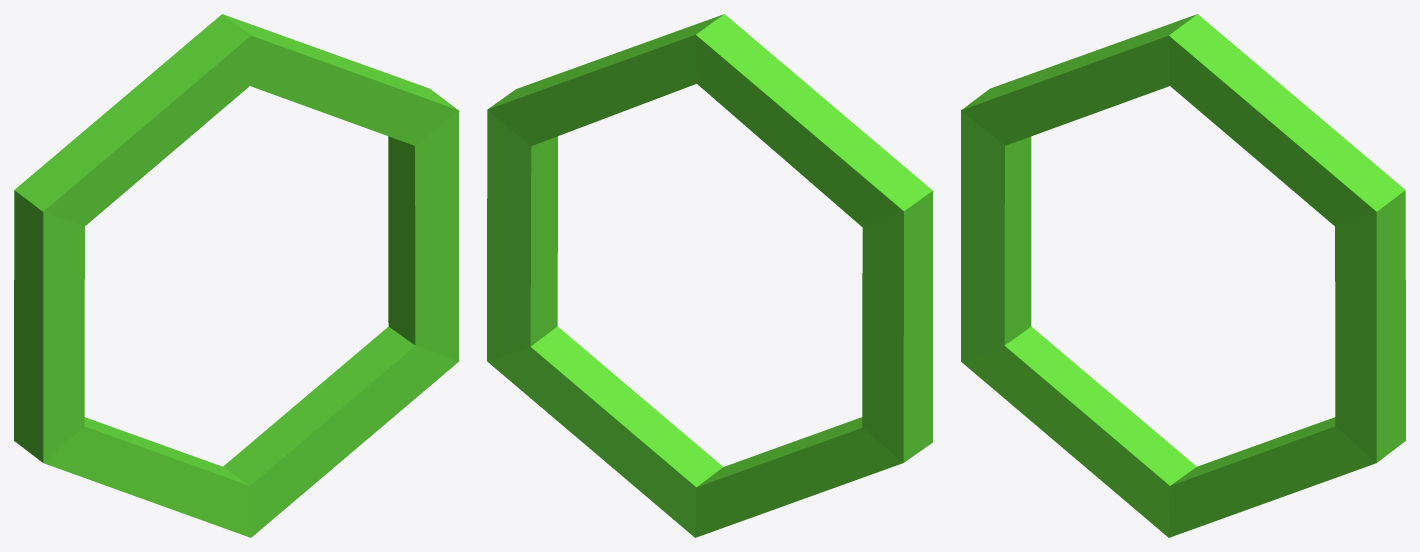
File: checkpoint.fbx
3 renders of one model, left to right at view 1: azimuth 30°, elevation 25°; view 2: azimuth 150°, elevation 25°; view 3: azimuth 330°, elevation 25°, orthographic.
Parts seen in each view (by area): view 1: Torus.003; view 2: Torus.003; view 3: Torus.003.
Boxes of the visible parts, x1,y1,x2,y2 form: Torus.003: (14,14,458,537); Torus.003: (487,14,932,537); Torus.003: (961,14,1405,537).
Bounding box in the file's own units: 945 × 1092 × 115.
